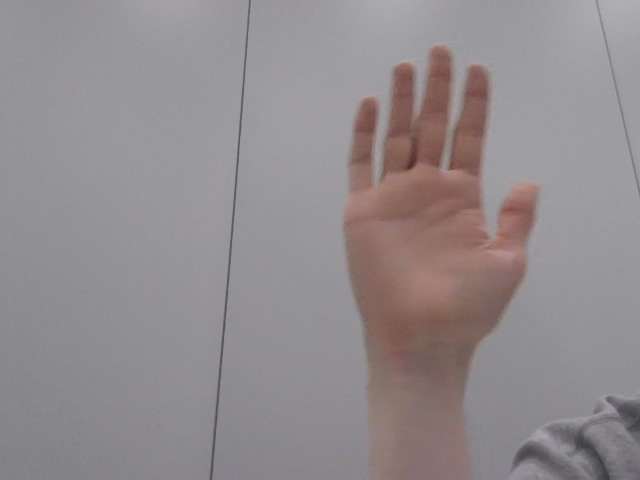nada: (324, 31, 561, 376)
